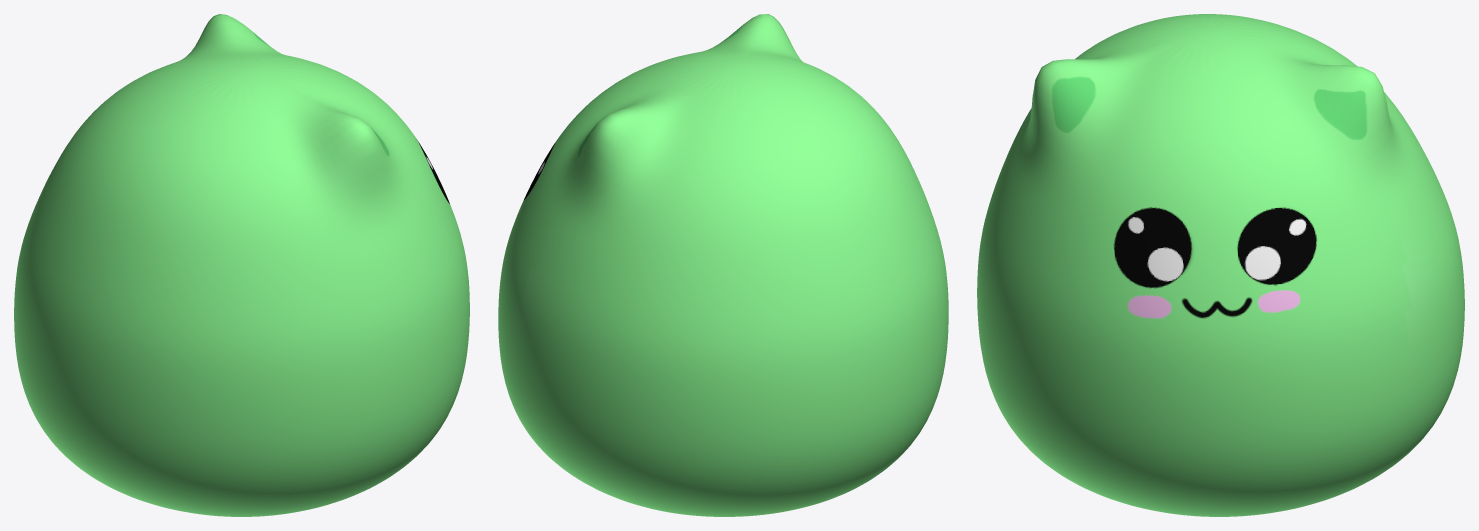
The model's file is kawaii6.fbx.
3 views of the same model, side by side, from view 1: azimuth 30°, elevation 25°; view 2: azimuth 150°, elevation 25°; view 3: azimuth 270°, elevation 25° (orthographic). The views are drawn at different scales.
Visible parts, largest first — view 1: Sphere; view 2: Sphere; view 3: Sphere.
Boxes of the visible parts, x1,y1,x2,y2 form: Sphere: (14,14,469,516); Sphere: (498,14,948,516); Sphere: (977,14,1464,516).
Bounding box in the file's own units: 77.09 × 77.16 × 77.1.
1 material, 1 textured.
